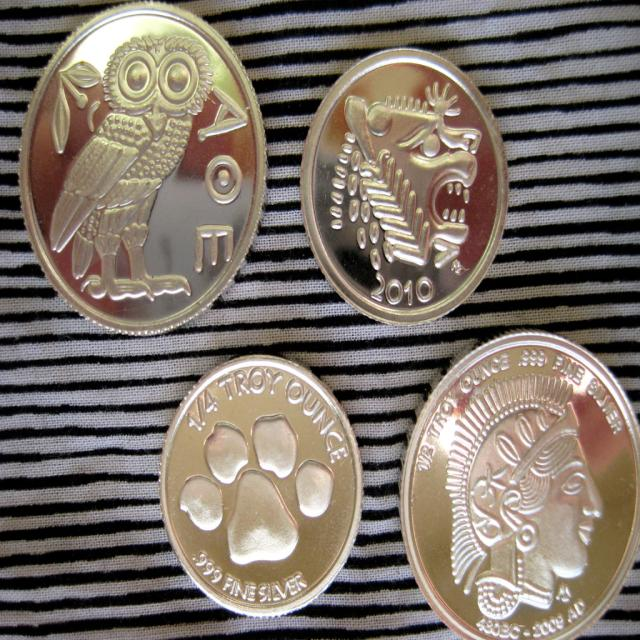Coin: (18, 0, 271, 334), (400, 329, 640, 639), (297, 44, 512, 323), (157, 355, 365, 617)
